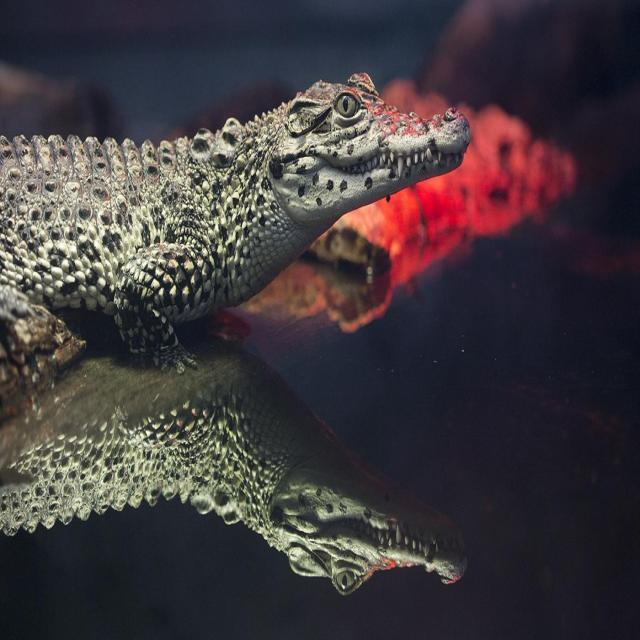crocodile: (0, 51, 503, 419)
